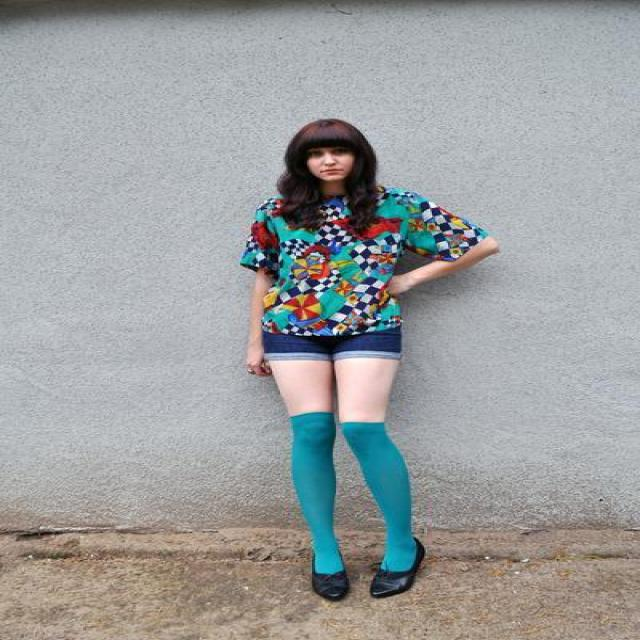shirt: (240, 192, 478, 335)
shoe: (310, 538, 426, 600)
shorts: (263, 319, 402, 370)
